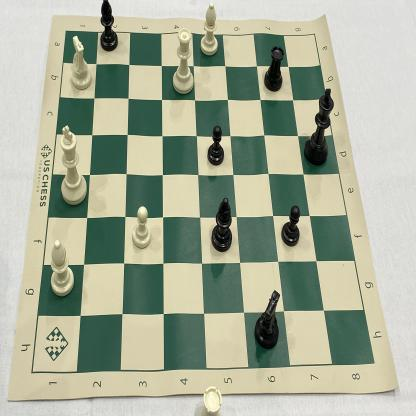black-bishop: (95, 0, 119, 60), (211, 194, 233, 255)
black-king: (305, 83, 334, 170)
black-knight: (255, 288, 282, 350)
black-pawn: (279, 202, 302, 248), (206, 124, 227, 168)
black-rook: (260, 40, 285, 95)
white-bishop: (45, 239, 74, 298), (200, 0, 219, 58)
white-king: (58, 121, 89, 208)
white-knight: (67, 32, 92, 92)
white-pawn: (127, 205, 152, 250)
white-queen: (169, 26, 195, 95)
